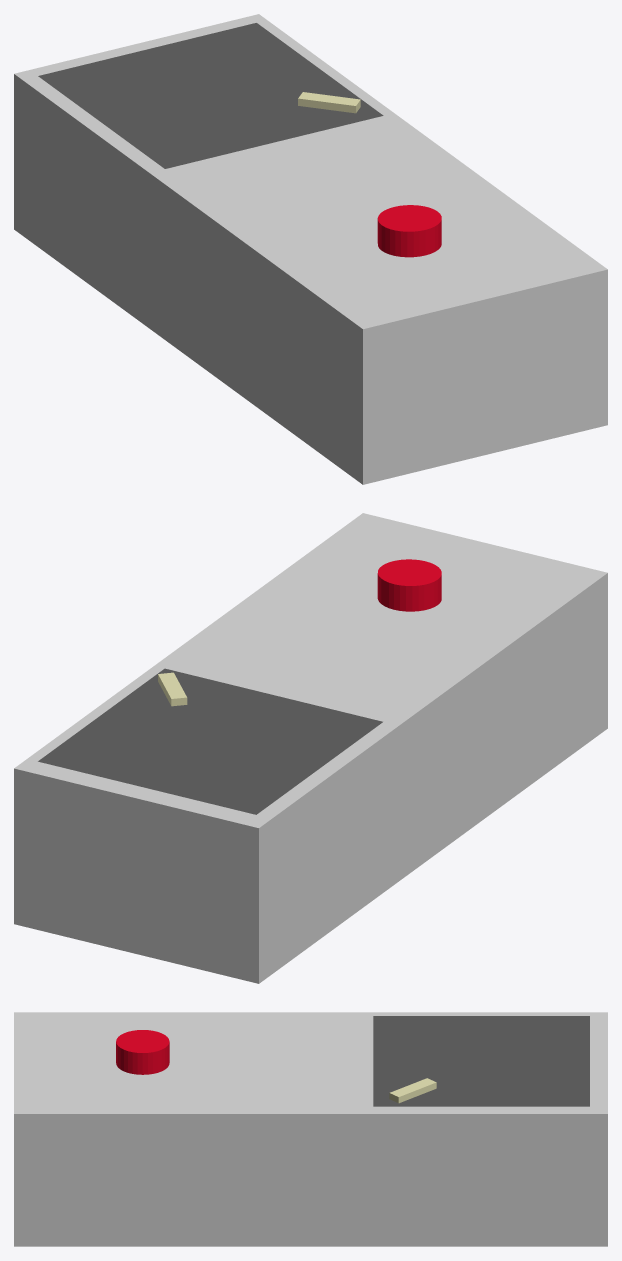
3 renders of one model, top to bottom at view 1: azimuth 30°, elevation 25°; view 2: azimuth 150°, elevation 25°; view 3: azimuth 270°, elevation 25°, orthographic. The views are drawn at different scales.
Visible parts, largest first — view 1: Cube, field, button, bug; view 2: Cube, field, button, bug; view 3: Cube, field, button, bug.
Boxes of the visible parts, box(x1,y1,x2,y2) form: Cube: box(14, 14, 607, 484); field: box(38, 23, 383, 168); button: box(377, 205, 441, 257); bug: box(298, 92, 360, 113); Cube: box(14, 513, 607, 983); field: box(38, 668, 382, 814); button: box(377, 559, 441, 611); bug: box(158, 672, 187, 706); Cube: box(14, 1012, 607, 1246); field: box(373, 1016, 589, 1106); button: box(116, 1030, 169, 1074); bug: box(389, 1078, 436, 1103).
Size of what is drawn, in the model's own units: 3.29 by 2.33 by 8.12.
